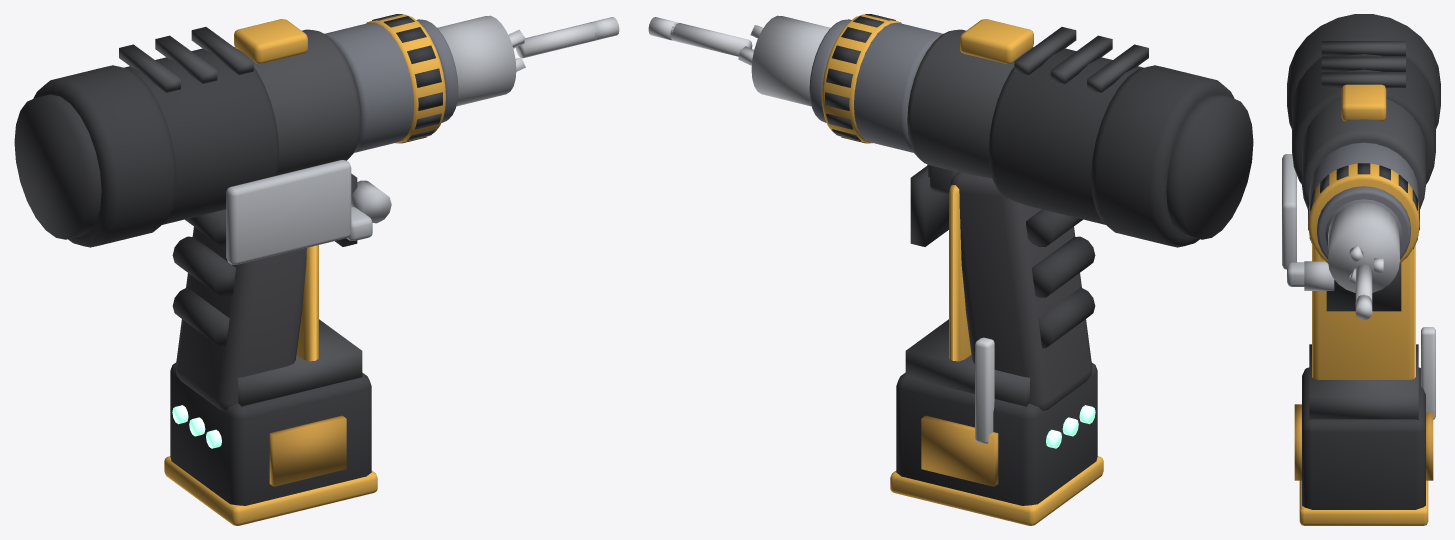
File: cordless-drill-Do5Dr5c0.glb
3 renders of one model, left to right at view 1: azimuth 30°, elevation 25°; view 2: azimuth 150°, elevation 25°; view 3: azimuth 270°, elevation 25°, orthographic. The views are drawn at different scales.
Parts seen in each view (by area): view 1: Body, Chuck; view 2: Body, Chuck; view 3: Body, Chuck.
Boxes of the visible parts, x1,y1,x2,y2 form: Body: (14, 14, 458, 525); Chuck: (437, 15, 619, 106); Body: (809, 14, 1253, 525); Chuck: (648, 15, 830, 106); Body: (1282, 14, 1440, 525); Chuck: (1325, 199, 1402, 320).
Bounding box in the file's own units: 0.233 × 0.179 × 0.064.
